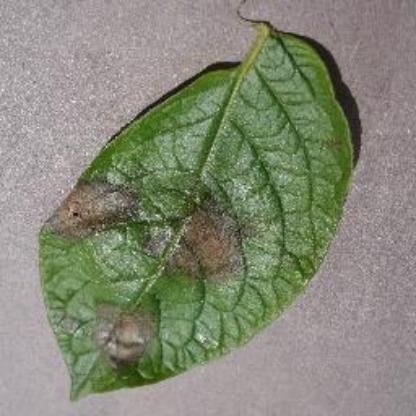Late-Blight: (33, 16, 365, 400)
